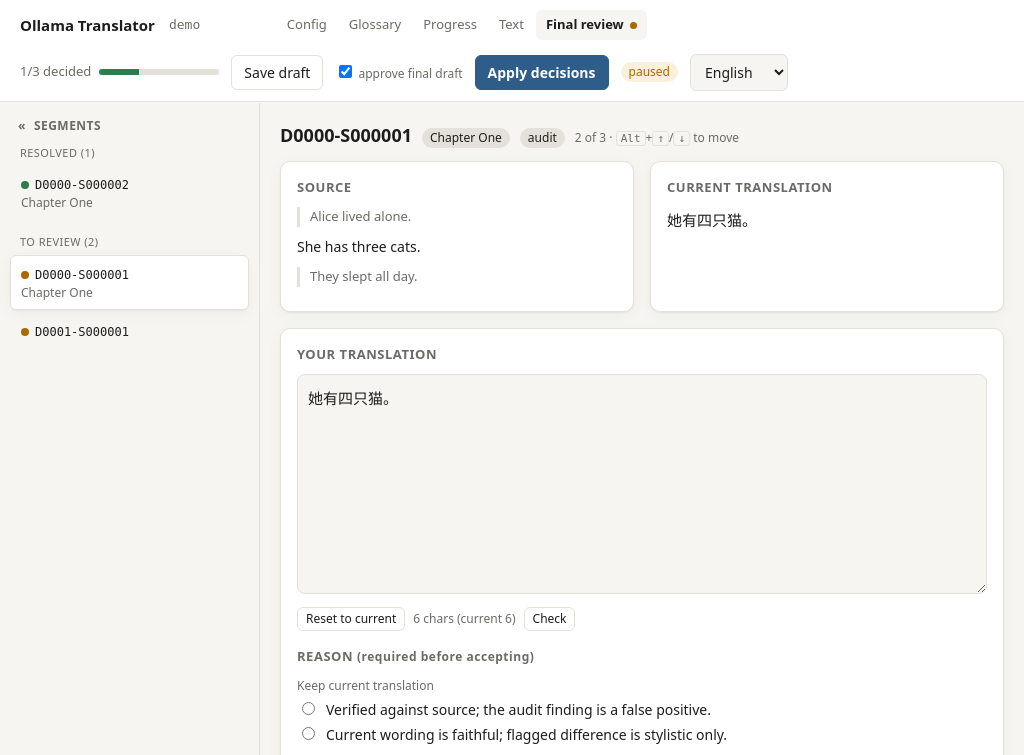
Test: Final review tab › findings and versions › still lists what was flagged for a passage with no further detail
The image size is (1024, 755).
Expected: the heading "Your translation" is shown, 297,344 -> 437,362
Click the button "D0001-S000001" at (130, 330), box 10,311 -> 249,348
(page scrolled)
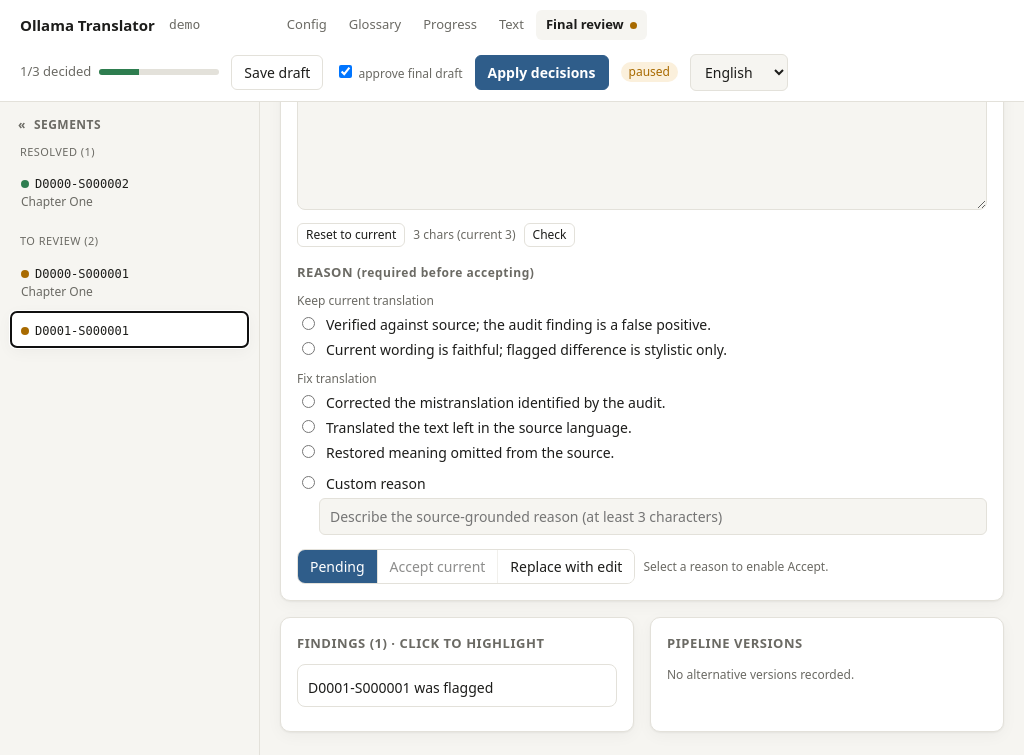
Expected: the element "Findings (1) · click to highlight D0001-S000001 was flagged" is shown, 280,617 -> 634,732
Expected: the text "No alternative versions recorded." is shown, 667,666 -> 854,683
